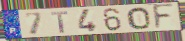4: (77, 8, 98, 34)
6: (102, 7, 123, 32)
7: (24, 11, 44, 36)
F: (152, 3, 176, 32)
O: (126, 6, 153, 30)
T: (50, 11, 70, 34)
